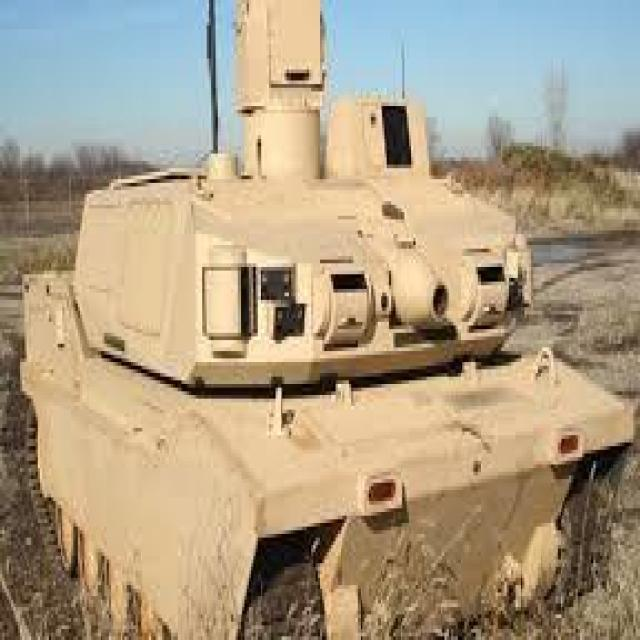Tanks: (26, 44, 592, 603)
